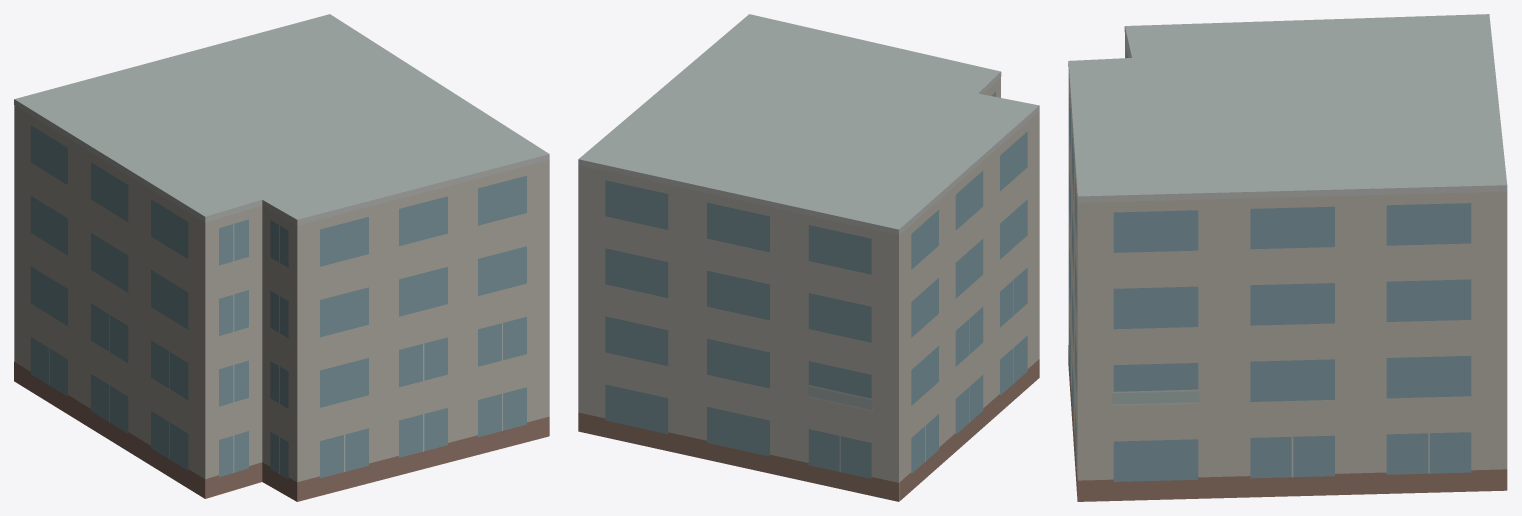
Rendered from survey-upis-32971194.glb.
The picture shows the model from 3 angles, left to right: view 1: azimuth 30°, elevation 25°; view 2: azimuth 150°, elevation 25°; view 3: azimuth 270°, elevation 25°; orthographic projection. The views are drawn at different scales.
Visible parts, largest first — view 1: survey-upis-32971194.tmp; view 2: survey-upis-32971194.tmp; view 3: survey-upis-32971194.tmp.
Boxes of the visible parts, bbox=[...] form: survey-upis-32971194.tmp: bbox=[14, 14, 549, 501]; survey-upis-32971194.tmp: bbox=[578, 14, 1039, 501]; survey-upis-32971194.tmp: bbox=[1068, 14, 1507, 501].
Size of the model in its own units: 15.19 by 11.85 by 15.44.
